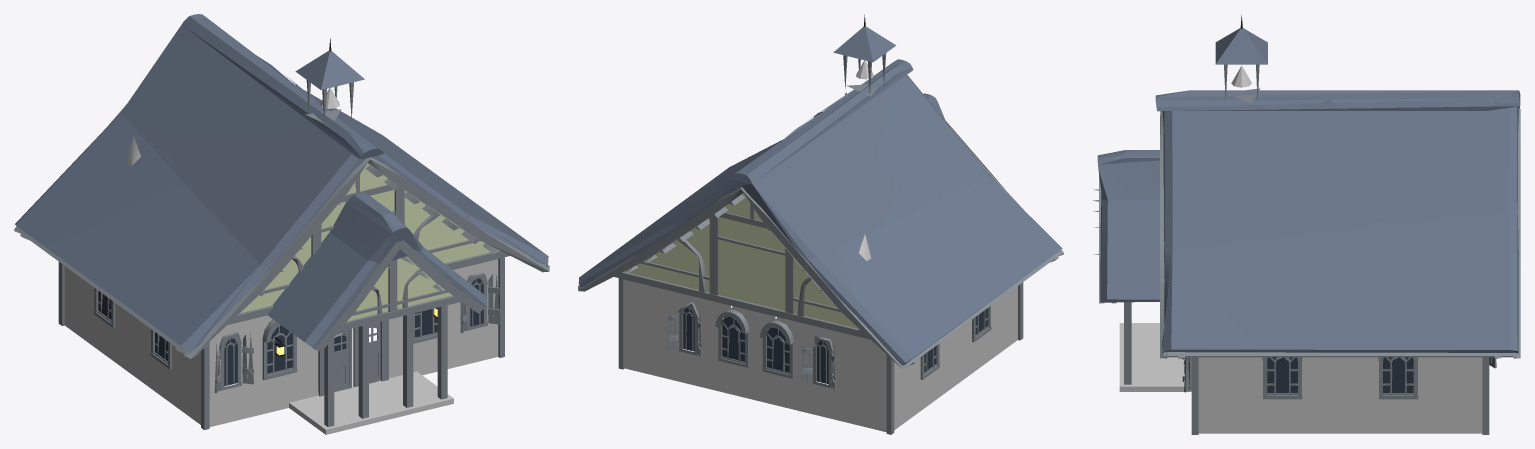
File: generated.meeting_hall.gltf
The picture shows the model from 3 angles, left to right: view 1: azimuth 30°, elevation 25°; view 2: azimuth 150°, elevation 25°; view 3: azimuth 270°, elevation 25°; orthographic projection. The views are drawn at different scales.
Visible parts, largest first — view 1: lod; view 2: lod; view 3: lod.
Boxes of the visible parts, x1,y1,x2,y2 form: lod: [14, 14, 549, 434]; lod: [578, 14, 1063, 434]; lod: [1093, 15, 1520, 434].
Size of the model in its own units: 14.93 by 13.16 by 14.75.
